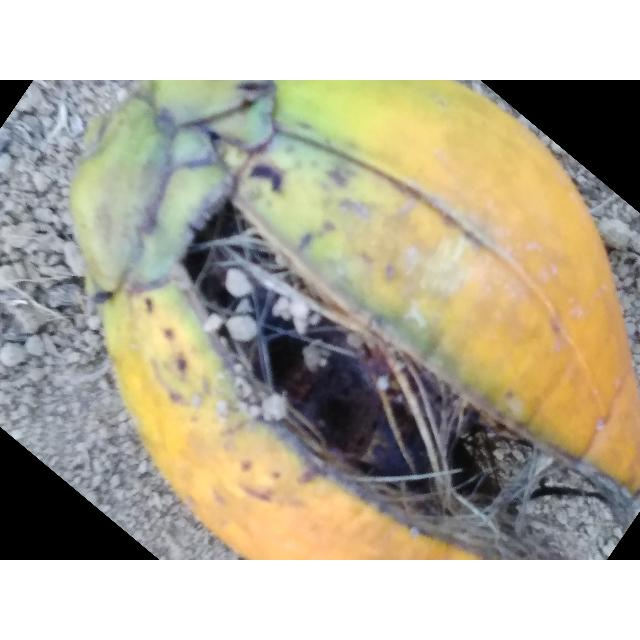damaged: (68, 80, 640, 560)
